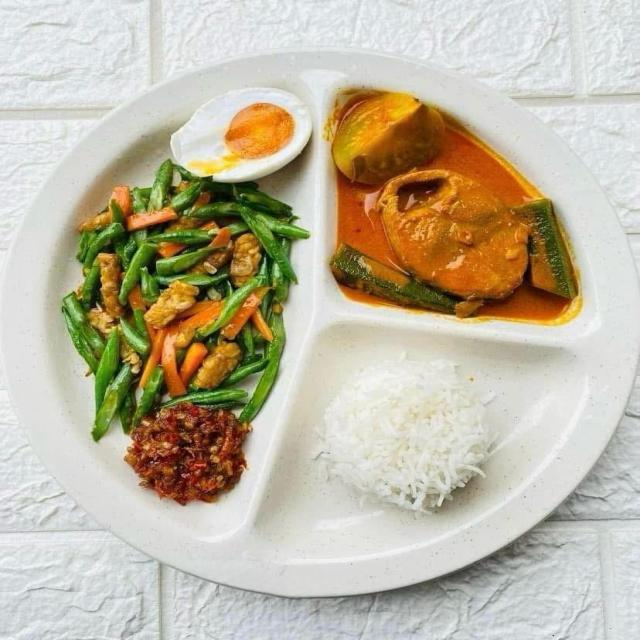Egg: (172, 87, 313, 182)
Fish: (378, 172, 532, 298)
Plate: (3, 53, 634, 593)
Rice: (319, 357, 487, 507)
Vegetables: (61, 160, 292, 435)
